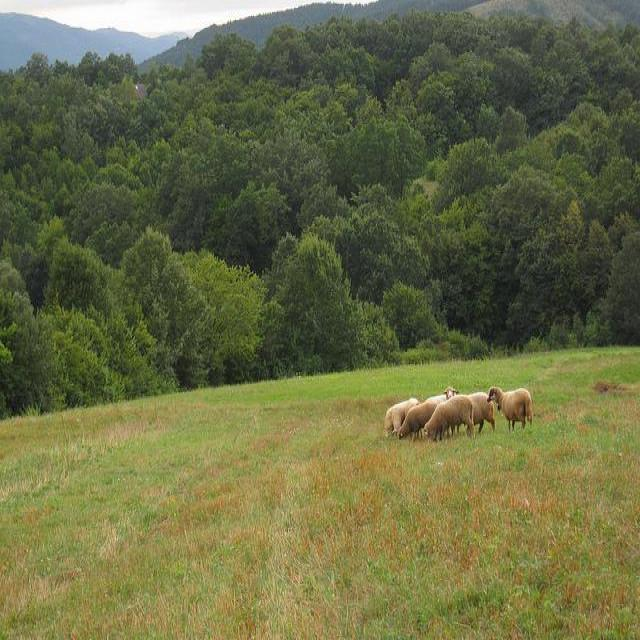Sheep: (424, 394, 476, 442), (398, 395, 448, 444), (487, 387, 534, 432)
